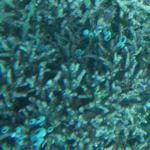dead: (5, 21, 143, 146)
